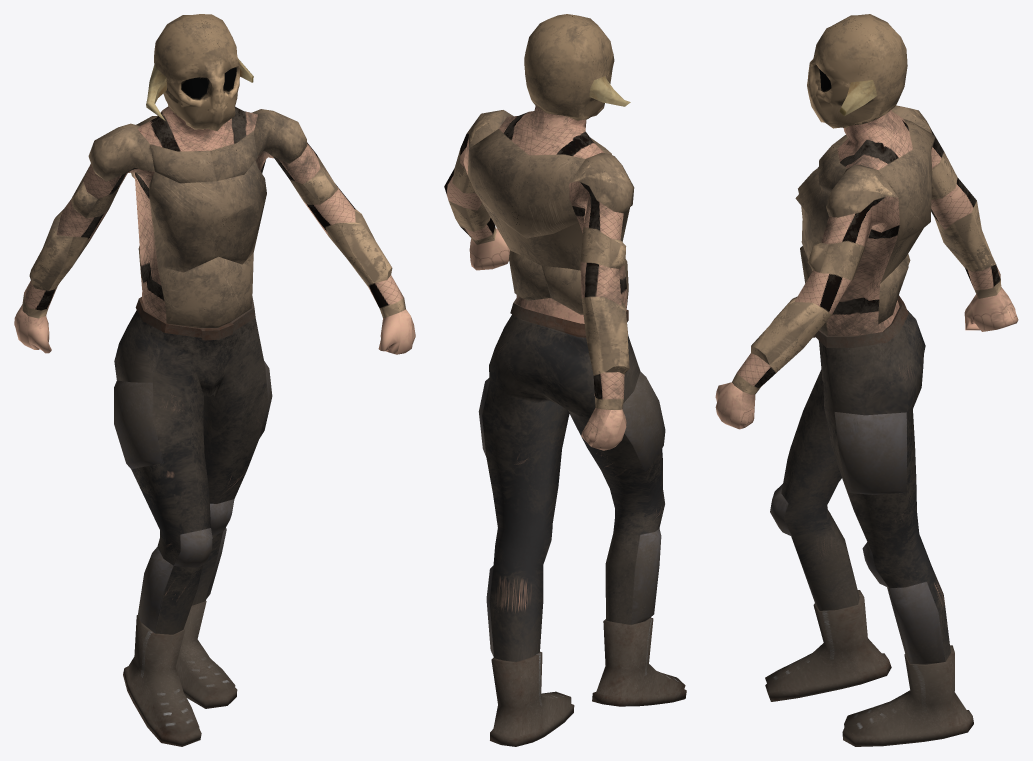
File: Anim_andar_npc1.0022.obj
3 views of the same model, side by side, from view 1: azimuth 30°, elevation 25°; view 2: azimuth 150°, elevation 25°; view 3: azimuth 270°, elevation 25° (orthographic). The views are drawn at different scales.
Visible parts, largest first — view 1: Anim_andar_npc1; view 2: Anim_andar_npc1; view 3: Anim_andar_npc1.
Part boxes in pixels (<box>): Anim_andar_npc1: <box>14,14,415,746</box>; Anim_andar_npc1: <box>444,14,686,746</box>; Anim_andar_npc1: <box>715,14,1018,746</box>.
Size of the model in its own units: 4 by 9.64 by 3.73.
